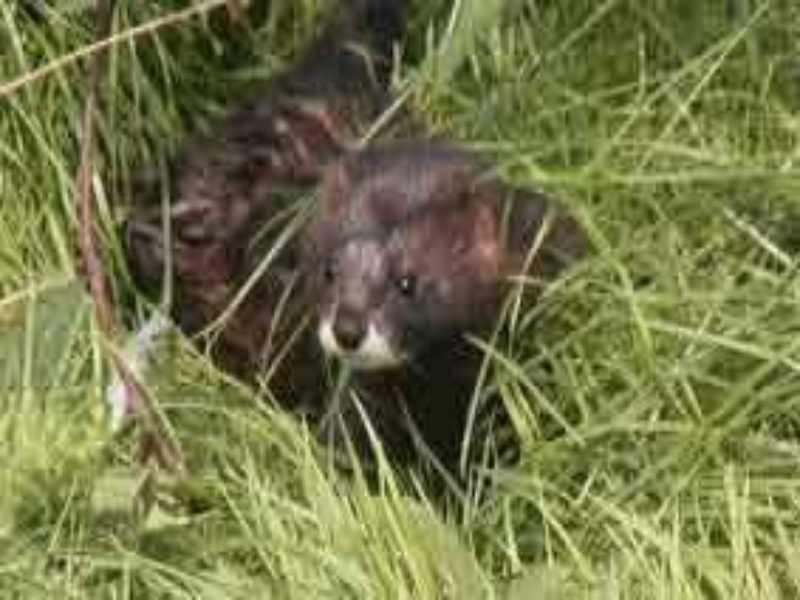minkish: (120, 6, 593, 487)
